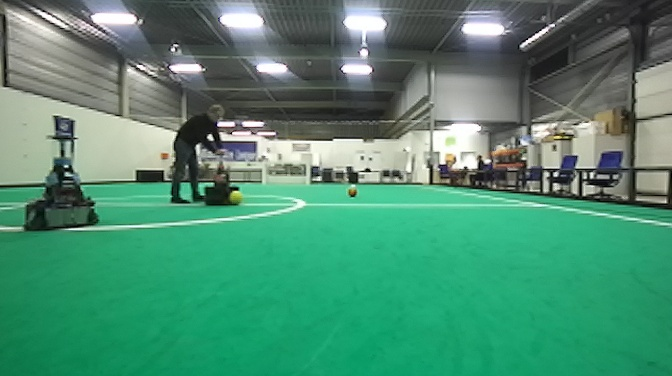ball: (228, 189, 243, 207), (346, 185, 359, 199)
goal: (260, 160, 310, 187)
goalpost: (305, 162, 311, 189), (261, 158, 265, 184)
human: (167, 101, 227, 205)
robot: (20, 112, 105, 237), (202, 148, 245, 210)
